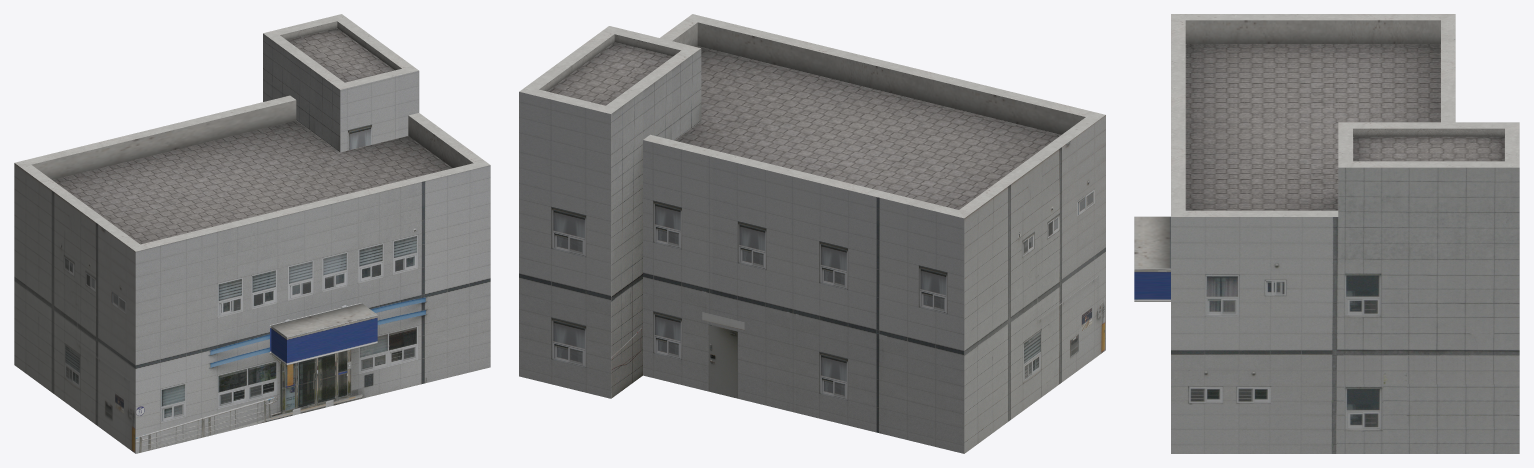
3 views of the same model, side by side, from view 1: azimuth 30°, elevation 25°; view 2: azimuth 150°, elevation 25°; view 3: azimuth 270°, elevation 25° (orthographic). The views are drawn at different scales.
Parts seen in each view (by area): view 1: MainBuilding; view 2: MainBuilding; view 3: MainBuilding.
Boxes of the visible parts, x1,y1,x2,y2 form: MainBuilding: (14, 14, 490, 453); MainBuilding: (519, 14, 1105, 453); MainBuilding: (1134, 14, 1519, 453).
Bounding box in the file's own units: 1.64 × 1.08 × 1.32.
Materials: 1 (1 with a texture image).
